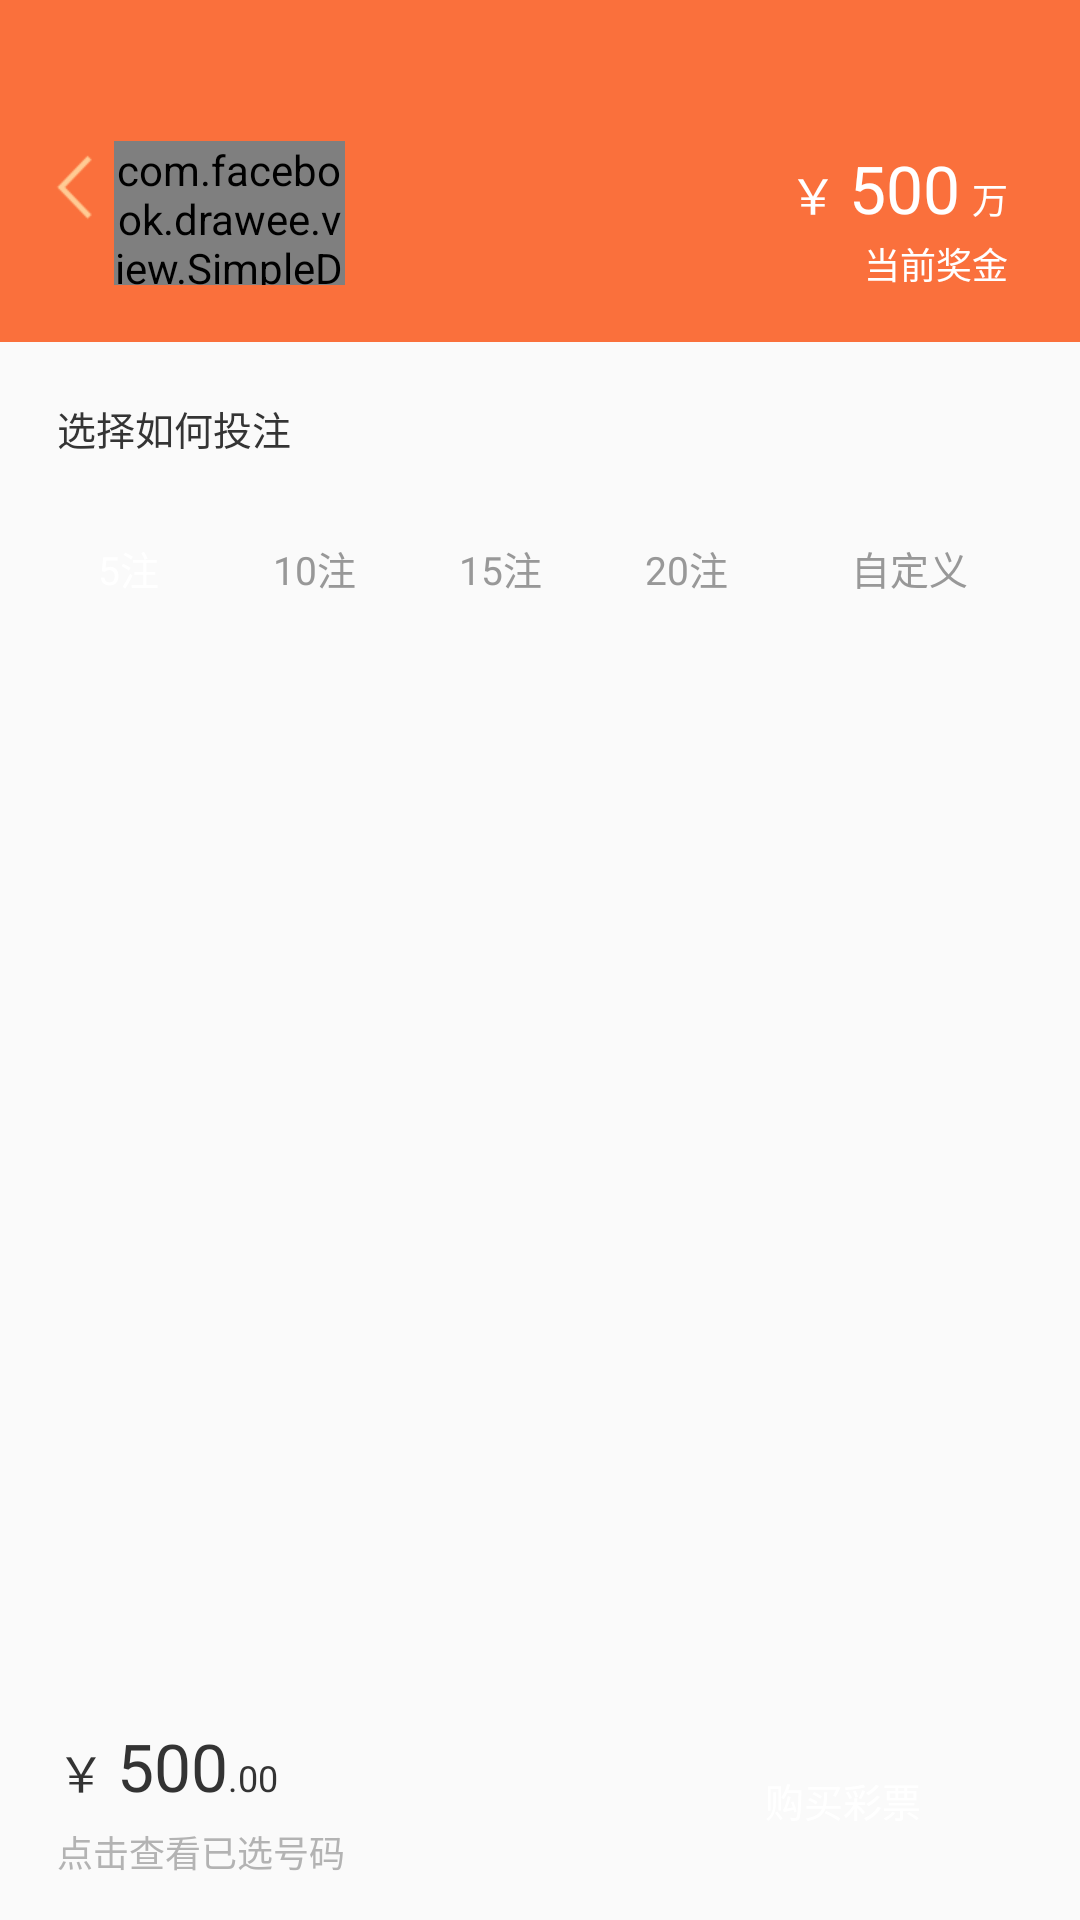

Locate icon controls on the screen. Image size 1080*1920, boxes as (x1, y1, x2, y2).
left back: (58, 156, 92, 219)
